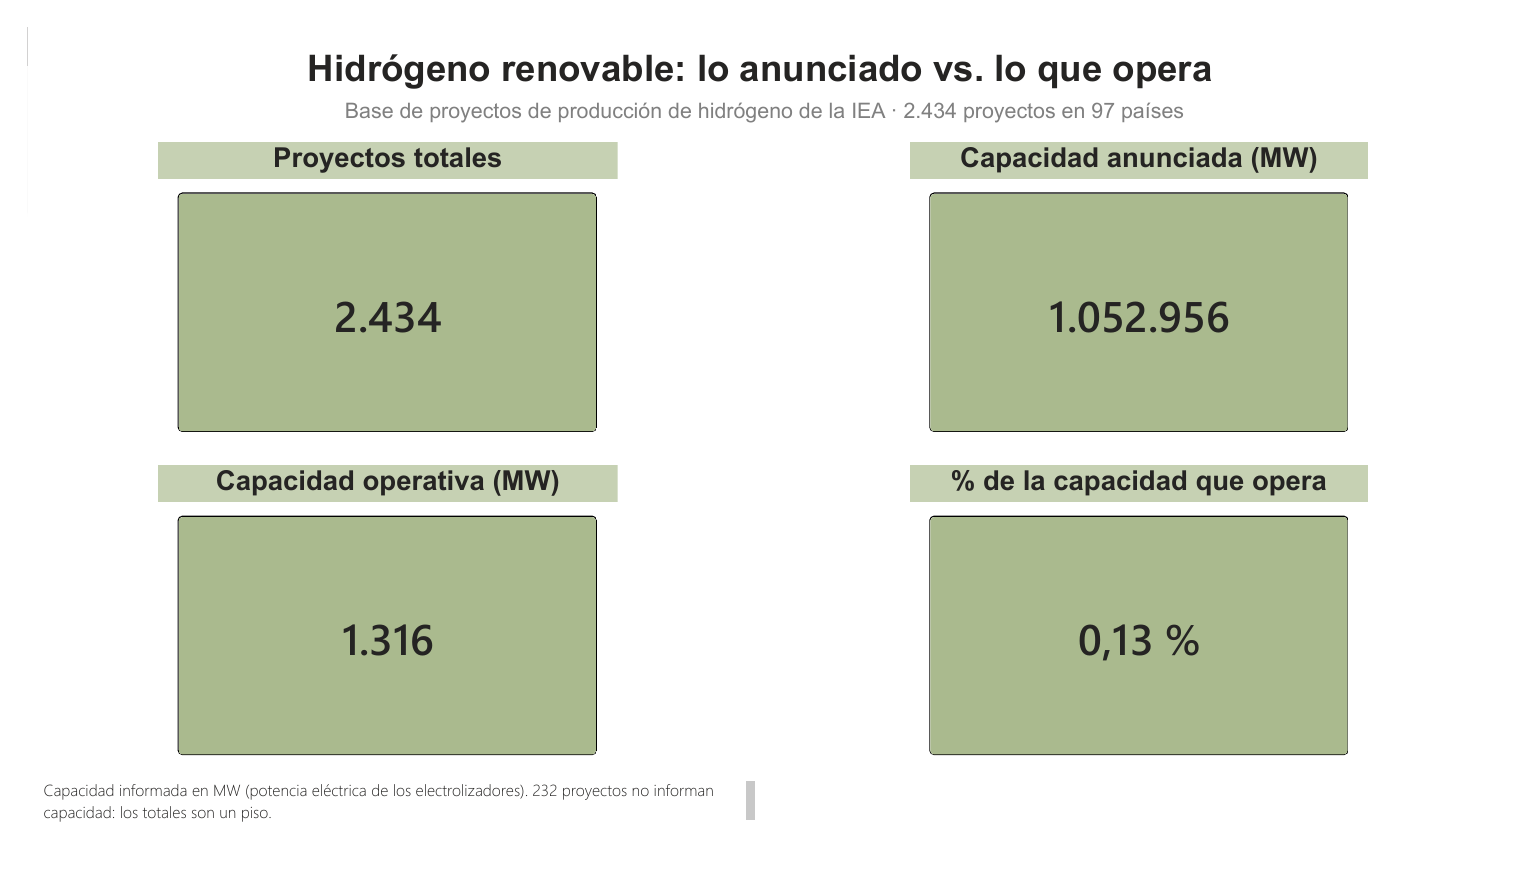

Layout of this report page (visuals, bound fields, positions):
{"tool":"powerbi","page":{"name":"Panorama","canvas":[1280,720],"ordinal":0},"visuals":[{"type":"cardVisual","title":"Proyectos totales","fields":{"Data":["P1 Panorama.Proyectos Totales"]},"box":[114.2,100.1,400.4,270.6],"z":0},{"type":"cardVisual","title":"Capacidad anunciada (MW)","fields":{"Data":["P1 Panorama.Capacidad Anunciada"]},"box":[769.6,100.1,400.4,270.6],"z":1000},{"type":"cardVisual","title":"Capacidad operativa (MW)","fields":{"Data":["P1 Panorama.Capacidad Operativa"]},"box":[114.2,381.7,400.4,270.6],"z":2000},{"type":"cardVisual","title":"% de la capacidad que opera","fields":{"Data":["P1 Panorama.Pct Capacidad Opera"]},"box":[769.6,381.7,400.4,270.6],"z":3000},{"type":"textbox","box":[153.3,12.5,972.9,87.6],"z":4000},{"type":"textbox","box":[9.4,652.3,630.4,45.4],"z":5000}]}

Visuals, with their boxes in screenshot pixels (x1, y1, x2, y2), scaled from the page's 1280x720 canvas onto the 1522x880 screenshot:
"Proyectos totales" cardVisual: locate(136, 122, 612, 453)
"Capacidad anunciada (MW)" cardVisual: locate(915, 122, 1391, 453)
"Capacidad operativa (MW)" cardVisual: locate(136, 467, 612, 797)
"% de la capacidad que opera" cardVisual: locate(915, 467, 1391, 797)
textbox: locate(182, 15, 1339, 122)
textbox: locate(11, 797, 761, 853)
